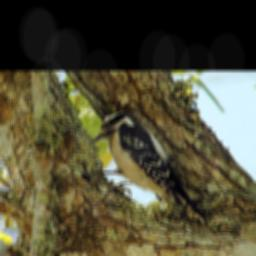Woodpecker: (90, 106, 209, 223)
